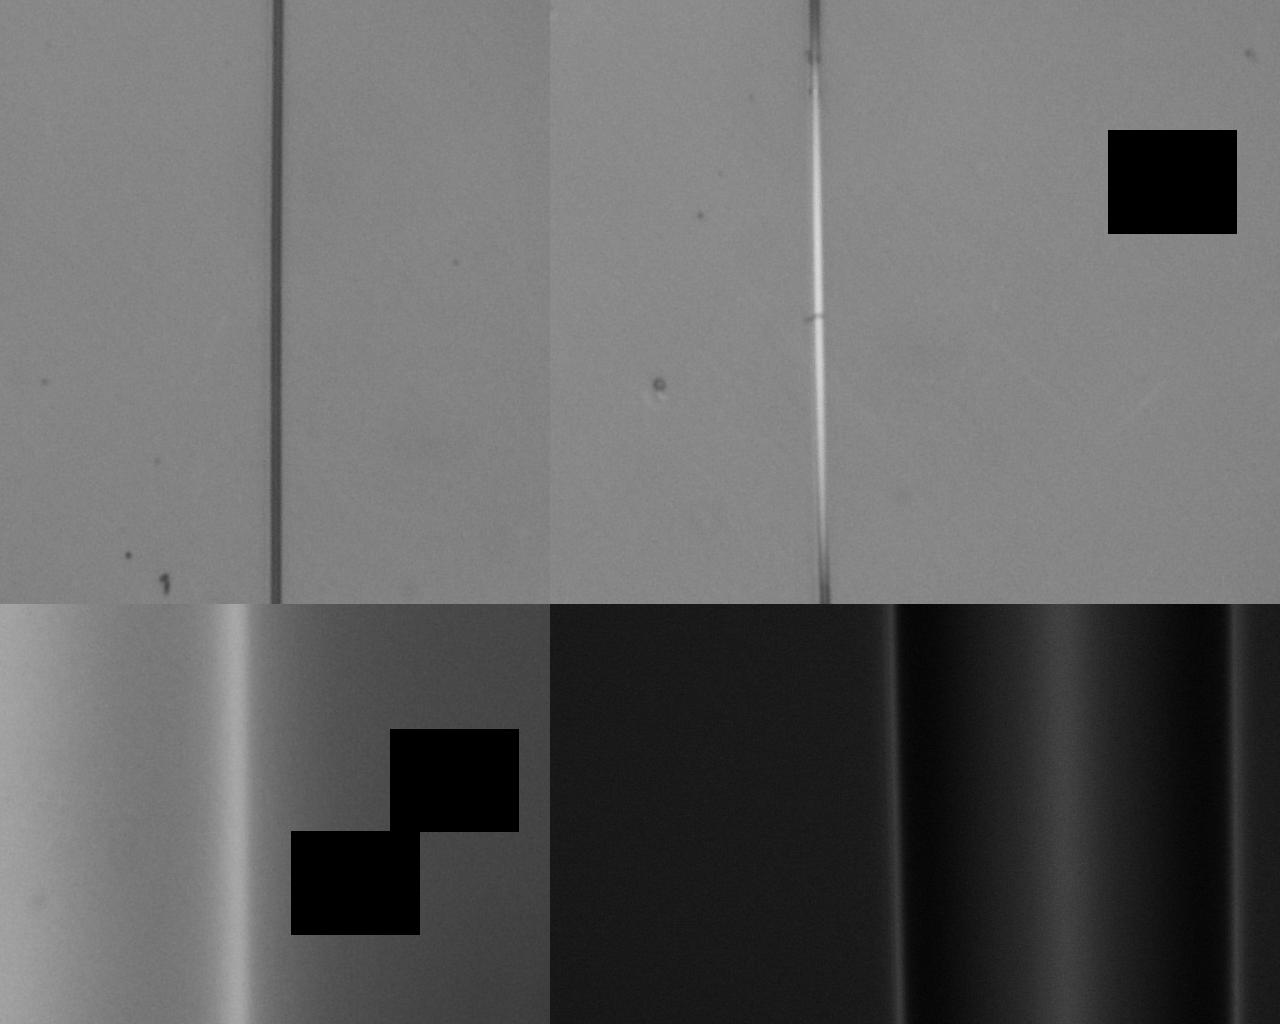fiber: (885, 604, 1238, 1024), (0, 604, 249, 1024), (811, 0, 833, 604), (270, 0, 288, 604)
